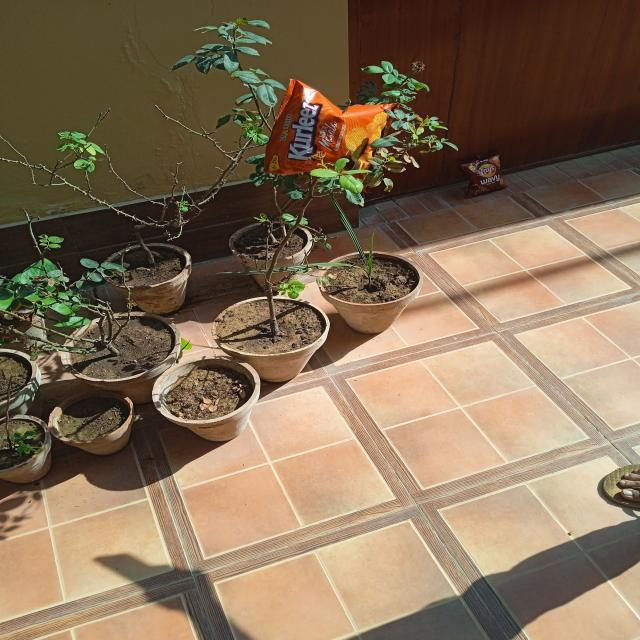Plastic: (275, 80, 383, 176)
